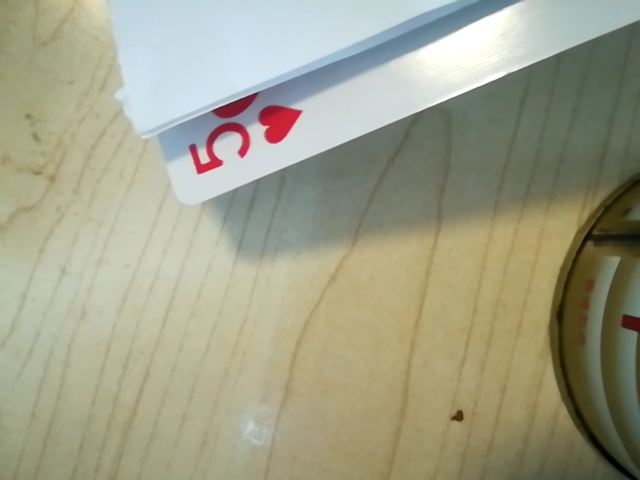hx 5: (173, 92, 299, 187)
